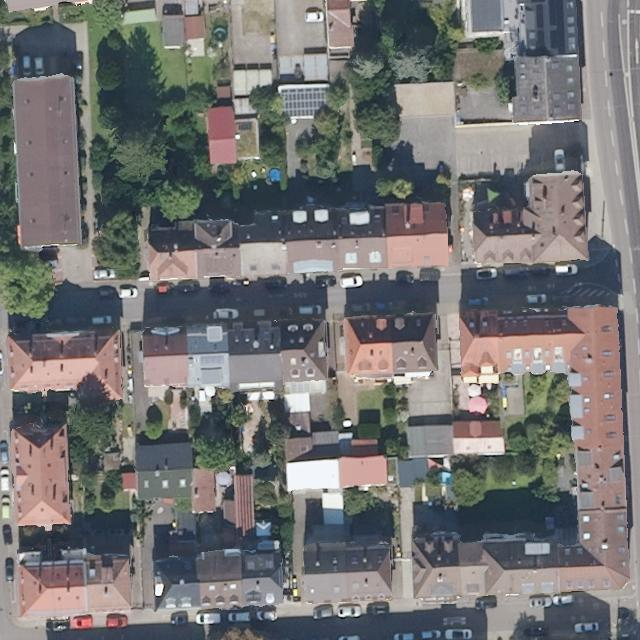PV: (279, 86, 331, 121), (198, 351, 226, 369)
